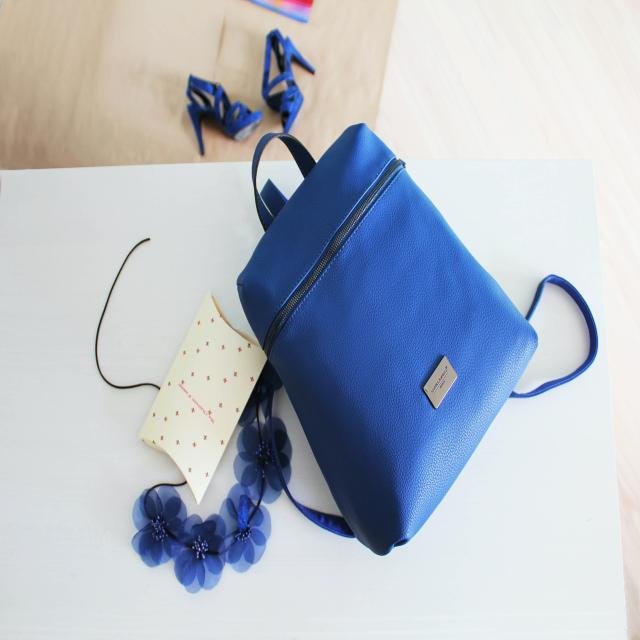backpack: (237, 121, 537, 559)
